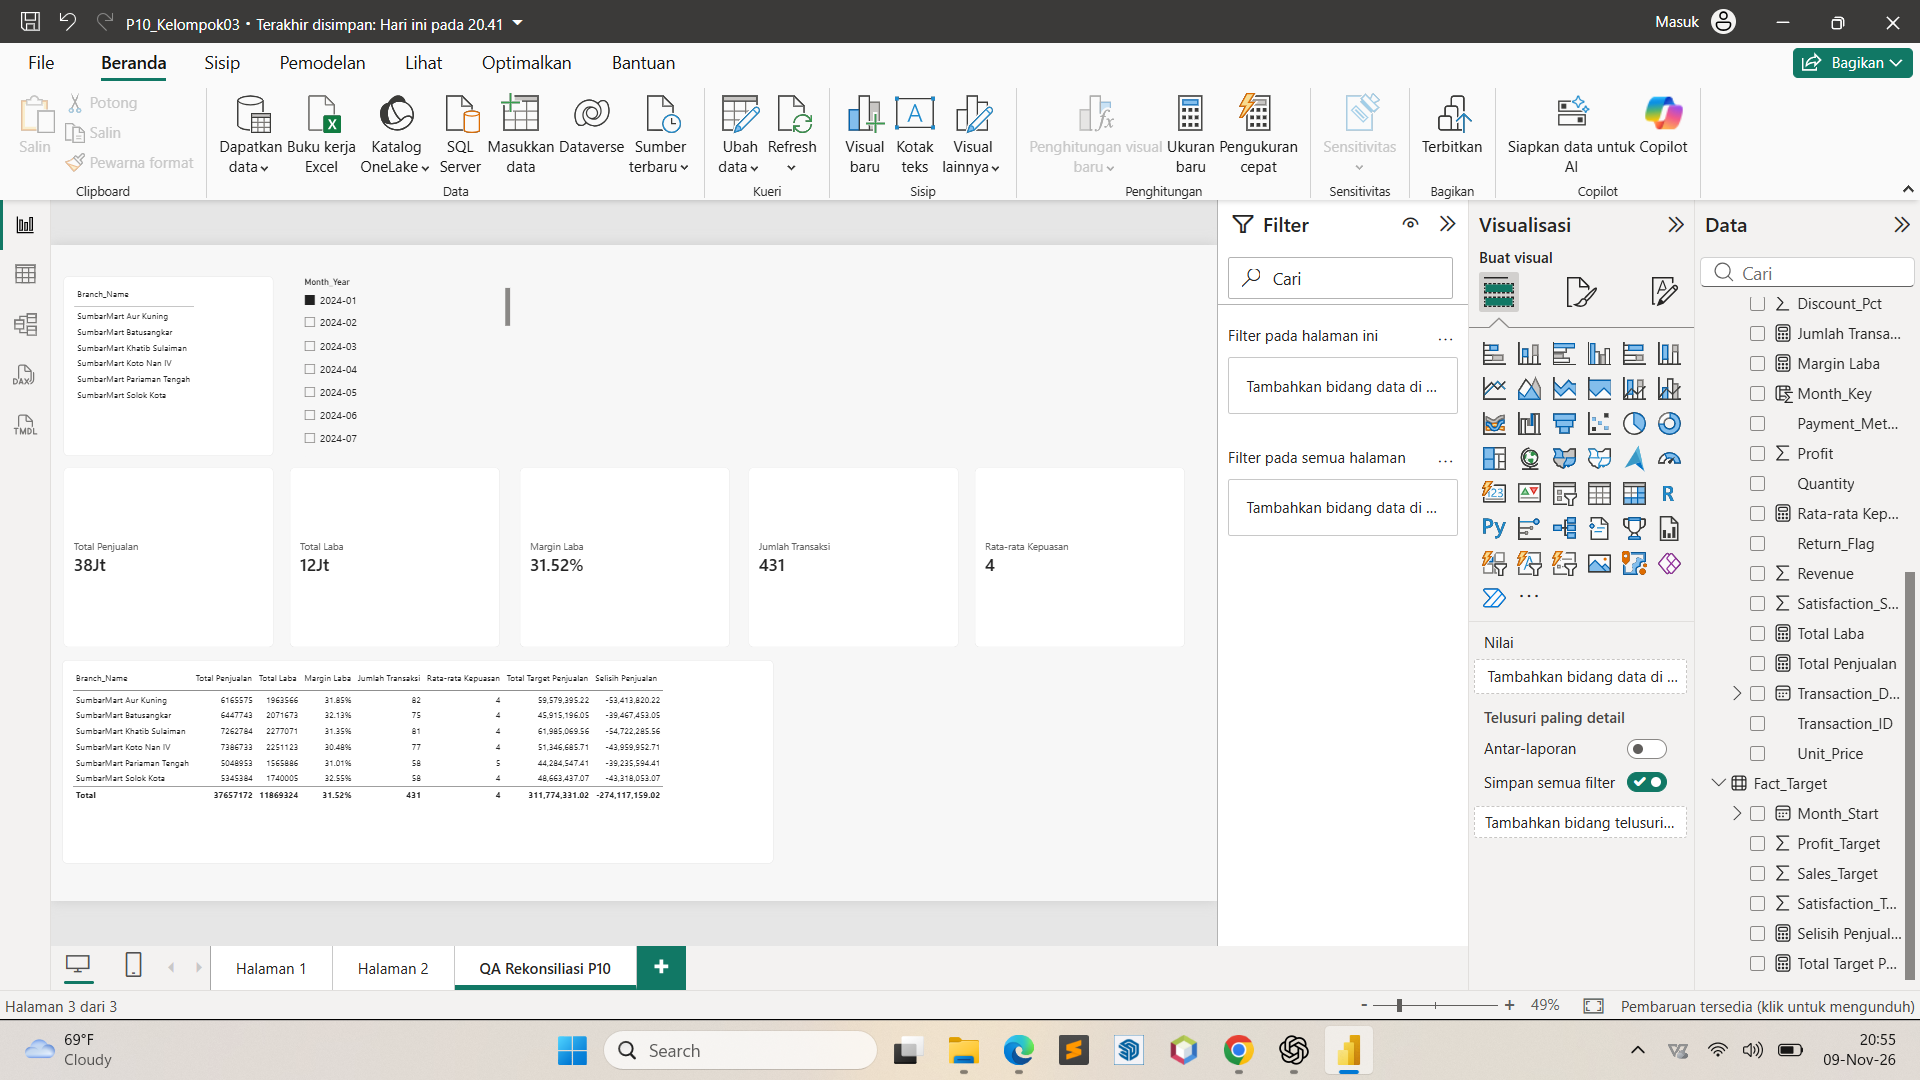

This screenshot's page, from the dashboard's own definition file:
{"tool":"powerbi","page":{"name":"QA Rekonsiliasi P10","canvas":[1920,1080],"ordinal":2},"visuals":[{"type":"tableEx","fields":{"Values":["Dim_Branch.Branch_Name"]},"box":[20.6,51.5,345.8,296.4],"z":1},{"type":"slicer","fields":{"Values":["Dim Date.Month_Year"]},"box":[409.6,51.5,346,296],"z":2},{"type":"cardVisual","fields":{"Data":["Fact_Sales.Total Penjualan"]},"box":[20.6,366.4,346,296],"z":3},{"type":"cardVisual","fields":{"Data":["Fact_Sales.Total Laba"]},"box":[393.1,366.4,346,296],"z":4},{"type":"cardVisual","fields":{"Data":["Fact_Sales.Margin Laba"]},"box":[771.9,366.4,346,296],"z":5},{"type":"cardVisual","fields":{"Data":["Fact_Sales.Jumlah Transaksi"]},"box":[1148.5,366.4,346,296],"z":6},{"type":"cardVisual","fields":{"Data":["Fact_Sales.Rata-rata Kepuasan"]},"box":[1521.1,366.4,346,296],"z":7},{"type":"tableEx","fields":{"Values":["Dim_Branch.Branch_Name","Fact_Sales.Total Penjualan","Fact_Sales.Total Laba","Fact_Sales.Margin Laba","Fact_Sales.Jumlah Transaksi","Fact_Sales.Rata-rata Kepuasan","Fact_Target.Total Target Penjualan","Fact_Target.Selisih Penjualan"]},"box":[18.5,683.4,1171.2,335.5],"z":8}]}

Visuals, with their boxes on the page's 1920x1080 design canvas (x1, y1, x2, y2). These are canvas units, not pixel positions in the 1920x1080 screenshot, which may show the page scaled, cropped or inside an application window:
tableEx - Dim_Branch.Branch_Name: <box>21,52,366,348</box>
slicer - Dim Date.Month_Year: <box>410,52,756,348</box>
cardVisual - Fact_Sales.Total Penjualan: <box>21,366,367,662</box>
cardVisual - Fact_Sales.Total Laba: <box>393,366,739,662</box>
cardVisual - Fact_Sales.Margin Laba: <box>772,366,1118,662</box>
cardVisual - Fact_Sales.Jumlah Transaksi: <box>1148,366,1494,662</box>
cardVisual - Fact_Sales.Rata-rata Kepuasan: <box>1521,366,1867,662</box>
tableEx - Dim_Branch.Branch_Name x Fact_Sales.Total Penjualan: <box>18,683,1190,1019</box>
